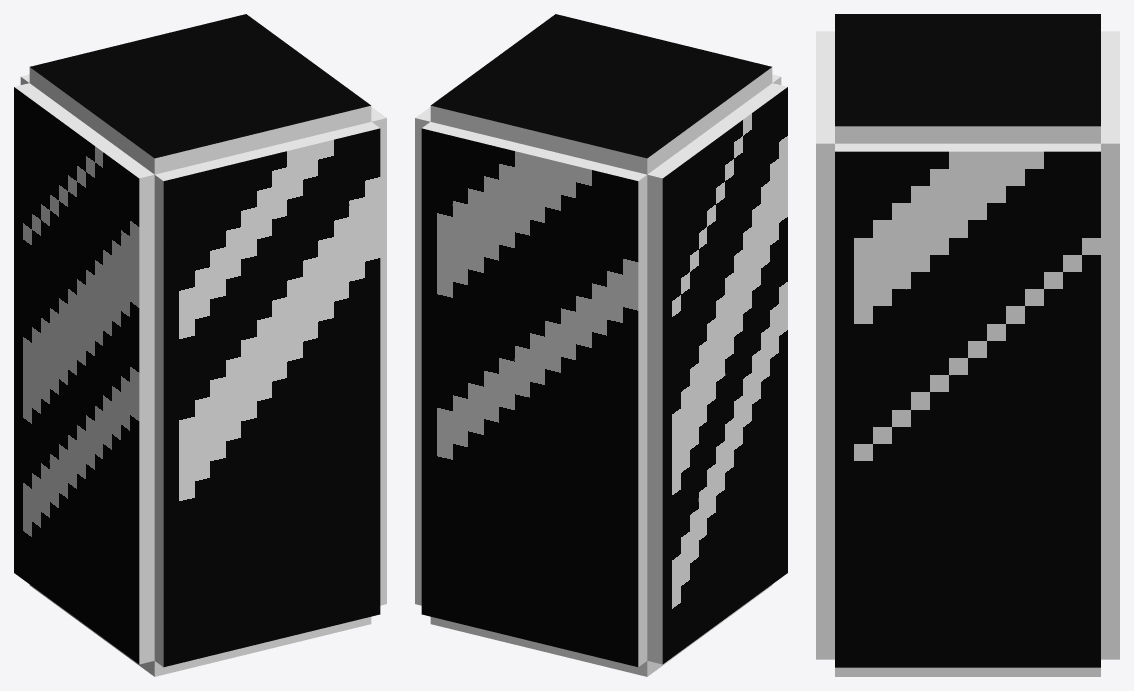
Rendered from cmy_crystal_kao.fezao.glb.
3 renders of one model, left to right at view 1: azimuth 30°, elevation 25°; view 2: azimuth 150°, elevation 25°; view 3: azimuth 270°, elevation 25°, orthographic. The views are drawn at different scales.
Parts seen in each view (by area): view 1: CMY_CRYSTAL_KAO; view 2: CMY_CRYSTAL_KAO; view 3: CMY_CRYSTAL_KAO.
Boxes of the visible parts, bbox=[...] form: CMY_CRYSTAL_KAO: bbox=[14, 14, 386, 676]; CMY_CRYSTAL_KAO: bbox=[415, 14, 787, 676]; CMY_CRYSTAL_KAO: bbox=[816, 14, 1119, 676].
Bounding box in the file's own units: 1 × 2 × 1.
Materials: 1 (1 with a texture image).
